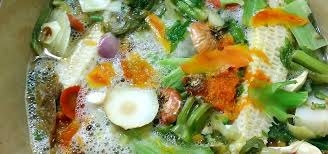kitchen_waste: (104, 79, 166, 132), (246, 77, 313, 119), (181, 71, 249, 111), (177, 43, 257, 74), (36, 13, 76, 60), (170, 96, 210, 139), (283, 48, 328, 85), (246, 4, 310, 30), (91, 31, 128, 61), (57, 82, 84, 118)
